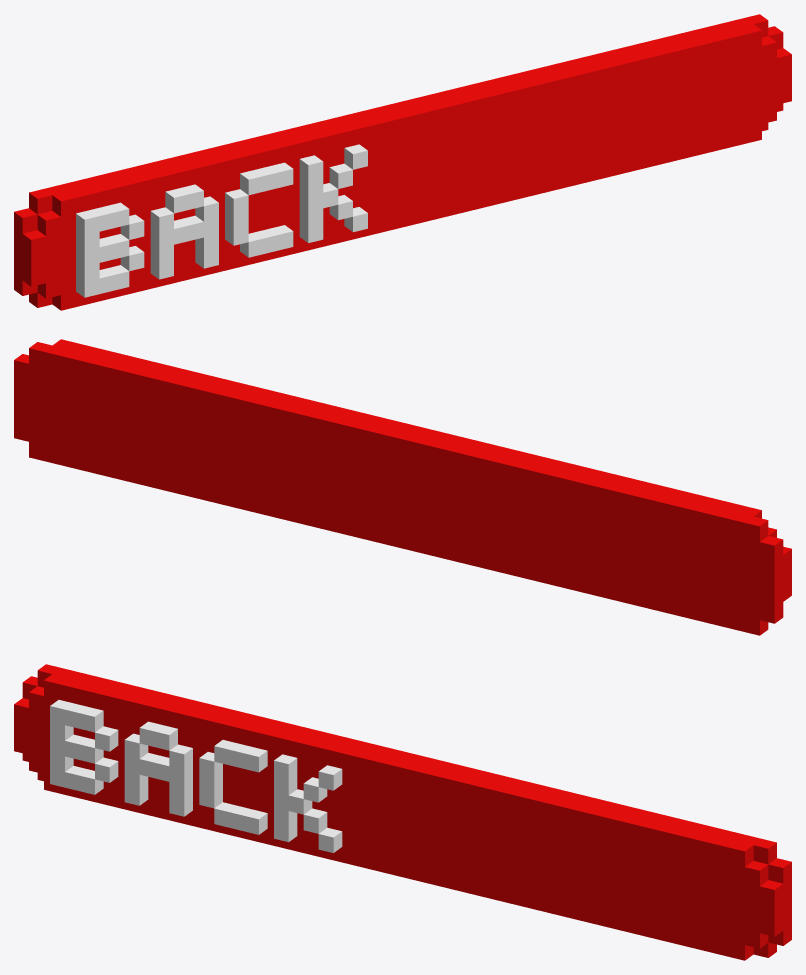
File: back_options.obj
The picture shows the model from 3 angles, top to bottom: view 1: azimuth 30°, elevation 25°; view 2: azimuth 150°, elevation 25°; view 3: azimuth 330°, elevation 25°; orthographic projection.
Parts seen in each view (by area): view 1: back_options; view 2: back_options; view 3: back_options.
Part boxes in pixels (x1,y1,x2,y2): back_options: (14,14,791,310); back_options: (14,339,791,635); back_options: (14,664,791,960).
Bounding box in the file's own units: 51 × 7 × 3.
Materials: 1 (1 with a texture image).
